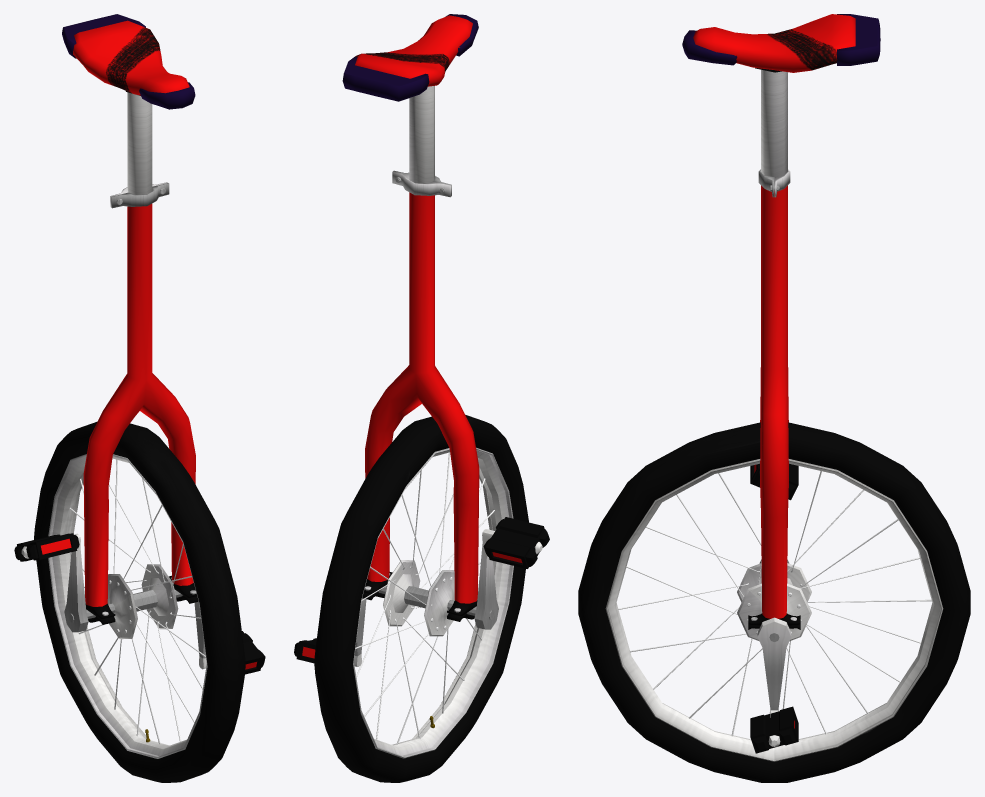
The model's file is unicycle.glb.
3 views of the same model, side by side, from view 1: azimuth 30°, elevation 25°; view 2: azimuth 150°, elevation 25°; view 3: azimuth 270°, elevation 25° (orthographic). The views are drawn at different scales.
Visible parts, largest first — view 1: Tyre, Chasis, Rim, Ceat, Spokes.001, Ceat Grip, Chasis.001; view 2: Tyre, Chasis, Rim, Ceat, Spokes.001, Ceat Grip, Chasis.001; view 3: Tyre, Rim, Chasis, Ceat, Spokes.001, Ceat Grip.
Boxes of the visible parts, bbox=[...] form: Tyre: bbox=[34, 421, 245, 782]; Chasis: bbox=[83, 92, 198, 624]; Rim: bbox=[14, 454, 265, 758]; Ceat: bbox=[73, 20, 189, 95]; Spokes.001: bbox=[69, 459, 205, 744]; Ceat Grip: bbox=[62, 14, 195, 109]; Chasis.001: bbox=[110, 182, 169, 208]; Tyre: bbox=[314, 415, 528, 782]; Chasis: bbox=[362, 86, 479, 621]; Rim: bbox=[294, 447, 549, 758]; Ceat: bbox=[355, 15, 472, 86]; Spokes.001: bbox=[355, 452, 494, 744]; Ceat Grip: bbox=[342, 14, 478, 101]; Chasis.001: bbox=[392, 170, 451, 197]; Tyre: bbox=[578, 422, 970, 782]; Rim: bbox=[605, 459, 943, 761]; Chasis: bbox=[748, 69, 800, 629]; Ceat: bbox=[693, 14, 855, 72]; Spokes.001: bbox=[618, 471, 931, 736]; Ceat Grip: bbox=[682, 14, 880, 65].
Bounding box in the file's own units: 0.6572 × 1.92 × 0.9101.
6 materials, 3 textured.
